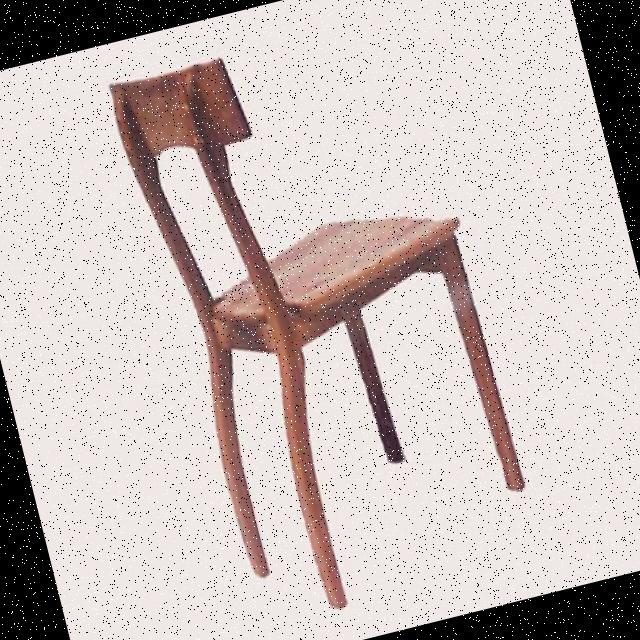Chair: (53, 0, 585, 640)
